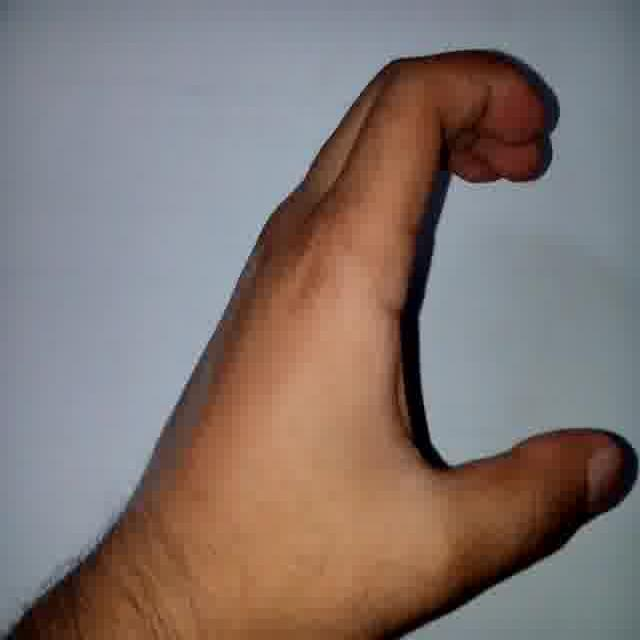Alphabet-C: (138, 41, 638, 612)
